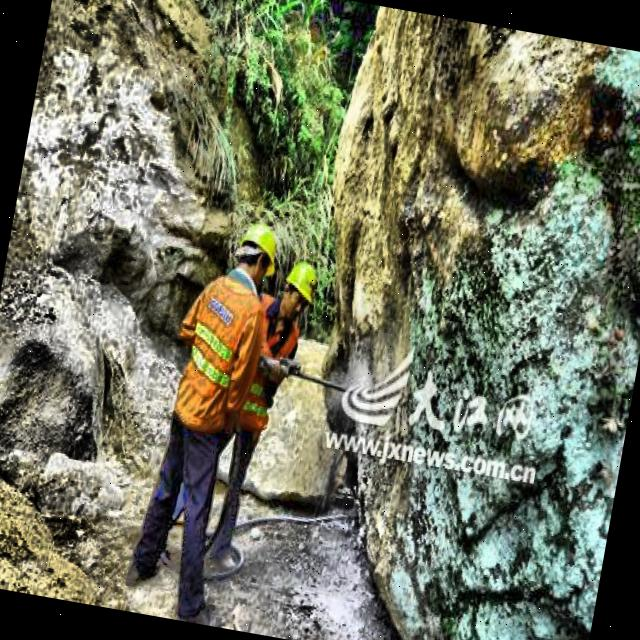helmet: (231, 221, 287, 288), (275, 254, 324, 326)
